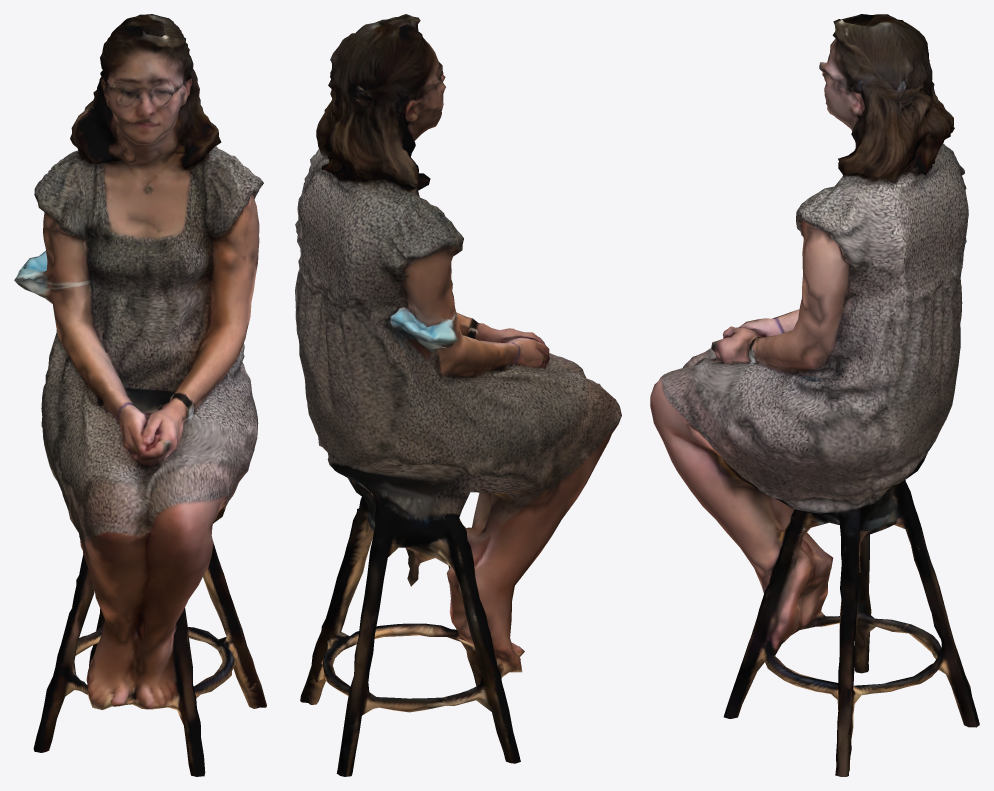
File: ezel.obj
3 views of the same model, side by side, from view 1: azimuth 30°, elevation 25°; view 2: azimuth 150°, elevation 25°; view 3: azimuth 270°, elevation 25° (orthographic). The views are drawn at different scales.
Parts seen in each view (by area): view 1: poly.001; view 2: poly.001; view 3: poly.001.
Boxes of the visible parts, x1,y1,x2,y2 form: poly.001: [14, 14, 266, 776]; poly.001: [295, 14, 621, 776]; poly.001: [650, 14, 979, 776].
Size of the model in its own units: 0.5553 by 1.54 by 0.6477.
1 material, 1 textured.
